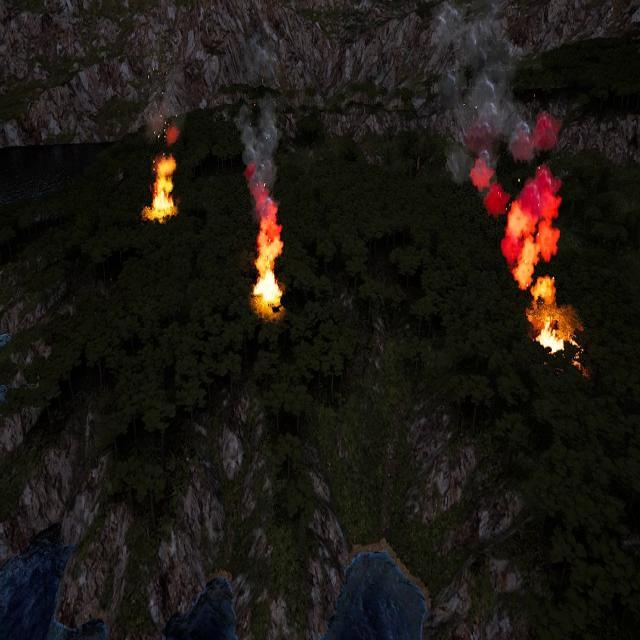fire: (149, 158, 177, 219), (253, 268, 284, 310), (536, 320, 564, 355)
smoke: (441, 27, 574, 308), (236, 96, 283, 275), (148, 113, 180, 168)
